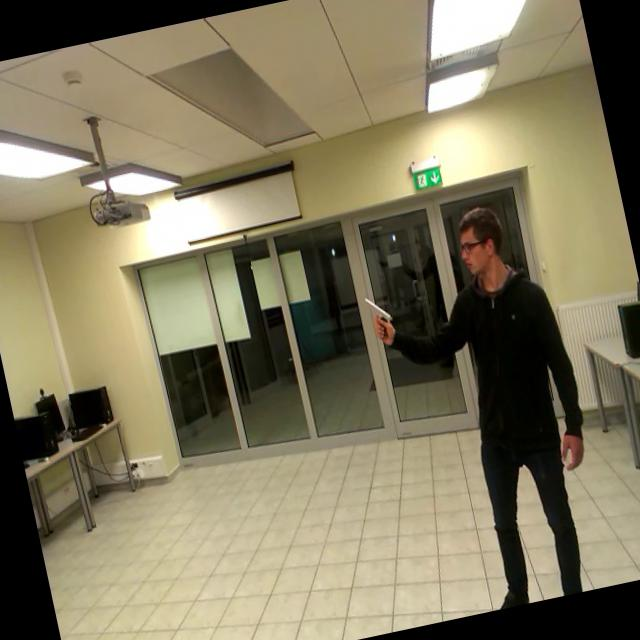handgun: (349, 282, 407, 362)
